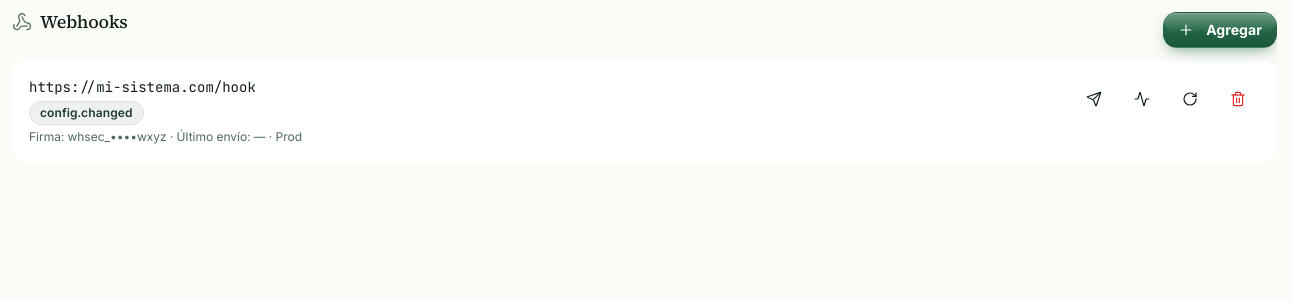
Test: WebhooksSection: acciones sobre un webhook › el evento de prueba NO pide step-up y abre las últimas entregas
Click the button named "Enviar evento de prueba" at {"x": 1094, "y": 99}, box [1072,77,1116,121]
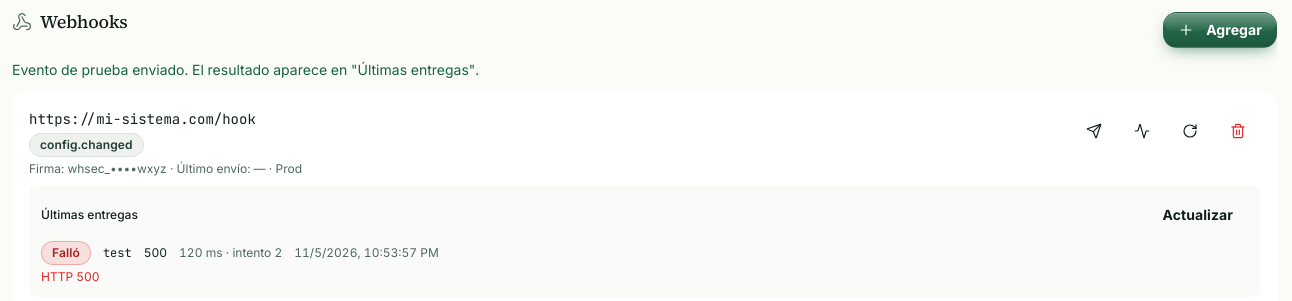
Check: the text "Últimas entregas" is shown, box [41,207,138,223]
Check: the text "Falló" is shown, box [41,241,91,265]
Check: the text "HTTP 500" is shown, box [41,269,100,284]
